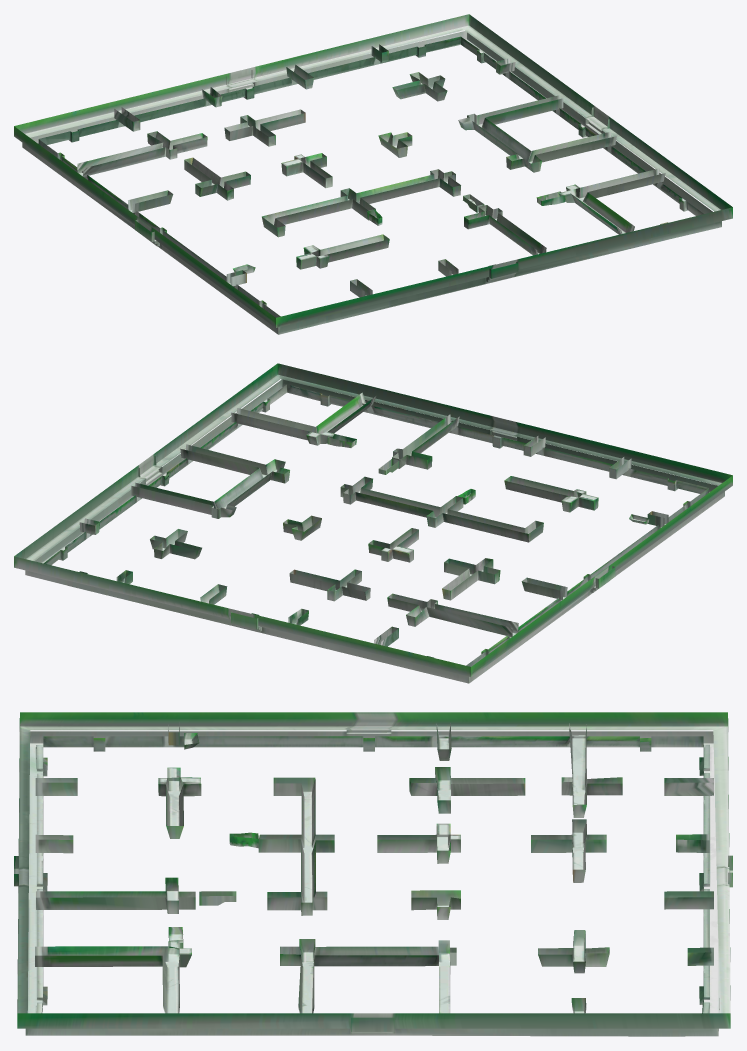
Rendered from mura.obj.
3 views of the same model, one above another, from view 1: azimuth 30°, elevation 25°; view 2: azimuth 150°, elevation 25°; view 3: azimuth 270°, elevation 25° (orthographic). The views are drawn at different scales.
Visible parts, largest first — view 1: InnerWalls_0.1; view 2: InnerWalls_0.1; view 3: InnerWalls_0.1.
Part boxes in pixels (box(x1,y1,x2,y2)): InnerWalls_0.1: box(14, 14, 732, 334); InnerWalls_0.1: box(14, 363, 732, 683); InnerWalls_0.1: box(14, 712, 732, 1036).
Size of the model in its own units: 13.39 by 0.5628 by 13.38.
1 material, 1 textured.
